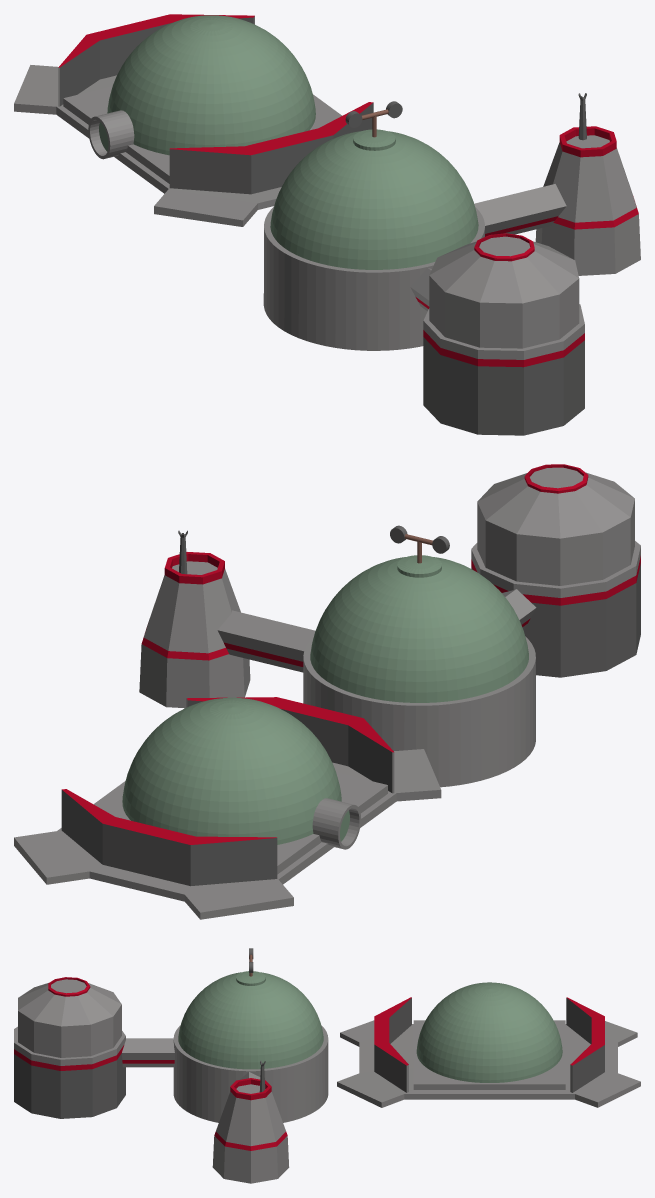
The model's file is lonnarbasecoisado.fbx.
3 views of the same model, one above another, from view 1: azimuth 30°, elevation 25°; view 2: azimuth 150°, elevation 25°; view 3: azimuth 270°, elevation 25° (orthographic). The views are drawn at different scales.
Parts seen in each view (by area): view 1: Sphere.001, Cylinder.006, Sphere, Cube, Cylinder.004, Cylinder.005, Cylinder; view 2: Sphere.001, Cube, Cylinder.006, Sphere, Cylinder.004, Cylinder.005, Cylinder, Cylinder.007; view 3: Sphere.001, Cube, Cylinder.006, Sphere, Cylinder.004, Cylinder.007.
Boxes of the visible parts, x1,y1,x2,y2 form: Sphere.001: (263,129,484,350); Cylinder.006: (423,233,584,435); Sphere: (107,15,315,155); Cube: (14,14,373,226); Cylinder.004: (535,126,640,275); Cylinder.005: (474,184,566,236); Cylinder: (88,110,134,159); Sphere.001: (303,555,535,787); Cube: (14,697,441,919); Cylinder.006: (471,464,640,677); Sphere: (122,697,341,844); Cylinder.004: (139,552,250,708); Cylinder.005: (217,610,315,672); Cylinder: (312,798,361,849); Cylinder.007: (502,589,536,629); Sphere.001: (173,971,328,1122); Cube: (337,997,640,1107); Cylinder.006: (14,977,125,1118); Sphere: (416,982,562,1082); Cylinder.004: (212,1078,289,1183); Cylinder.007: (122,1038,174,1067).
Size of the model in its own units: 2015 by 1006 by 4100.
